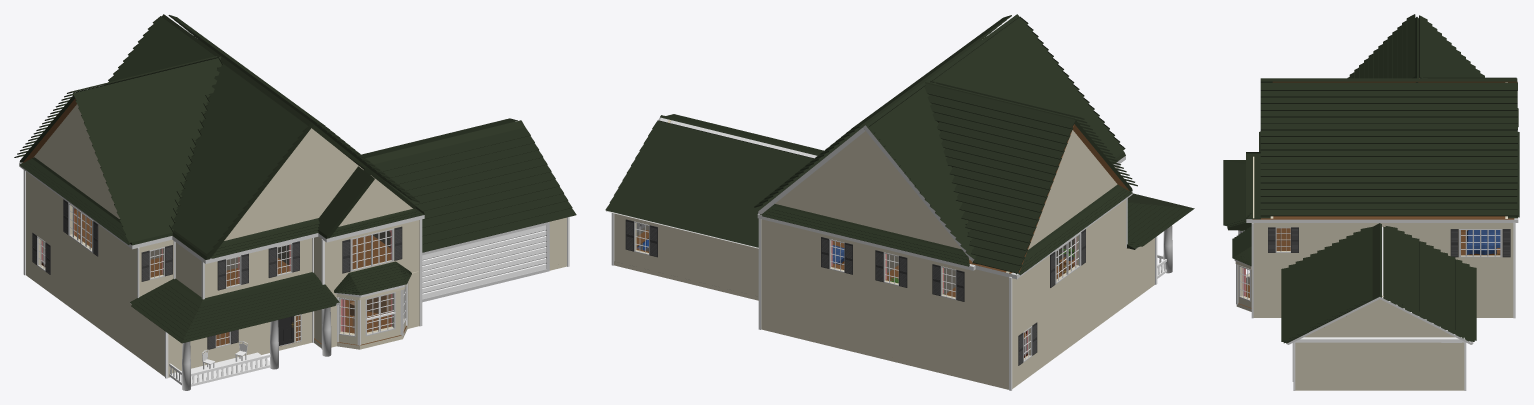
File: casas_mallas.glb
The picture shows the model from 3 angles, left to right: view 1: azimuth 30°, elevation 25°; view 2: azimuth 150°, elevation 25°; view 3: azimuth 270°, elevation 25°; orthographic projection. The views are drawn at different scales.
Visible parts, largest first — view 1: Cube.022; view 2: Cube.022; view 3: Cube.022.
Part boxes in pixels (x1,y1,x2,y2): Cube.022: (14, 14, 576, 390); Cube.022: (605, 14, 1194, 390); Cube.022: (1223, 14, 1519, 390).
Bounding box in the file's own units: 24.7 × 12.44 × 17.
